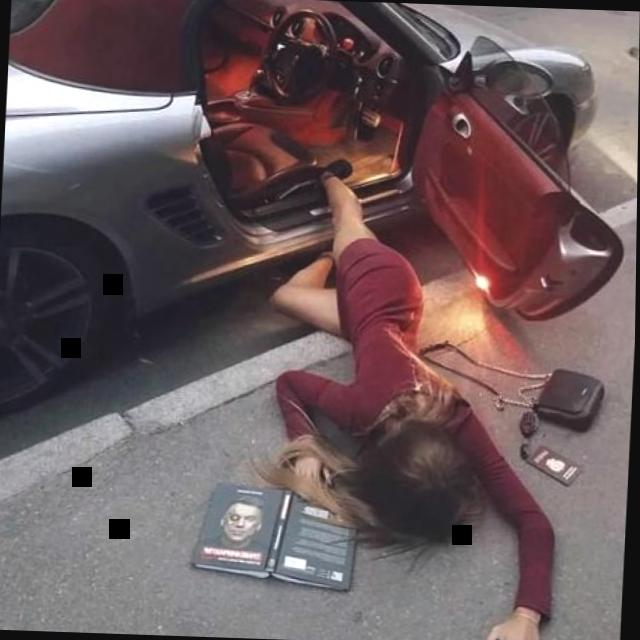Fall-Detected: (240, 148, 590, 640)
